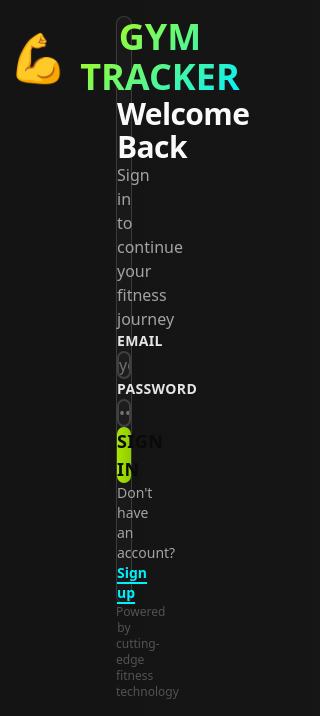
Test: Login Page › should handle form submission
The image size is (320, 716).
Type "test@example.com" into the field labelled "Email" at (124, 365), box x1=117 y1=351 x2=131 y2=379
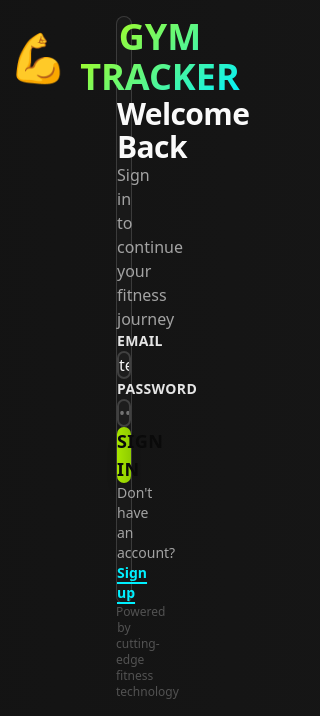
Type "password123" into the password field labelled "Password" at (124, 413), box x1=117 y1=399 x2=131 y2=427
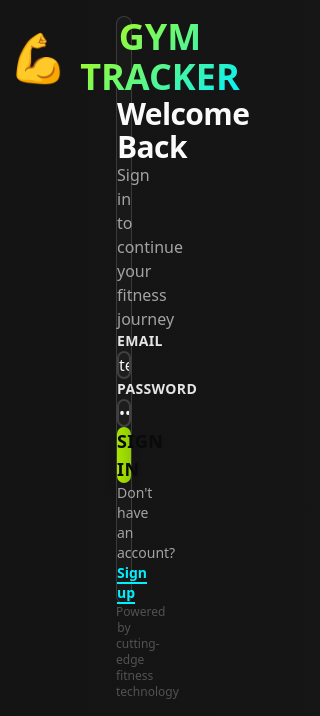
Click the button "Sign In" at (124, 455), box x1=117 y1=427 x2=131 y2=483
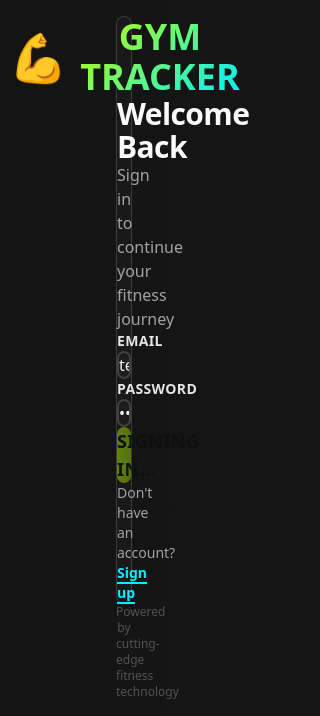
Expected: the button named "sign in" is disabled, x1=117 y1=427 x2=131 y2=483
